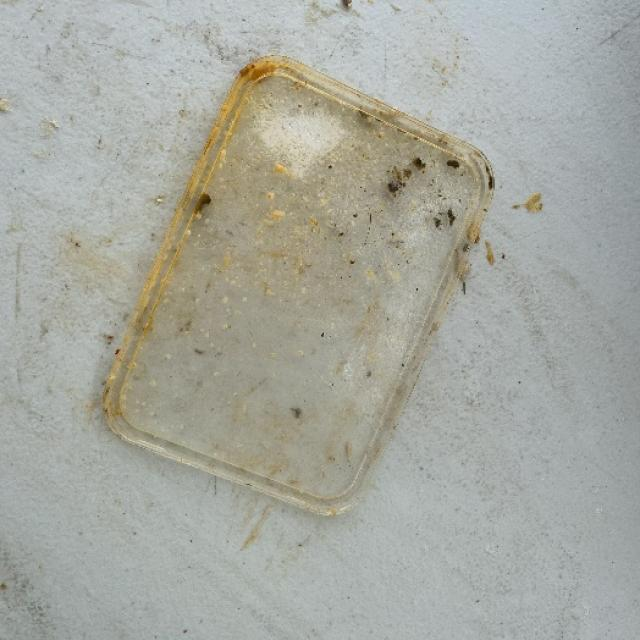plastic: (100, 54, 495, 516)
